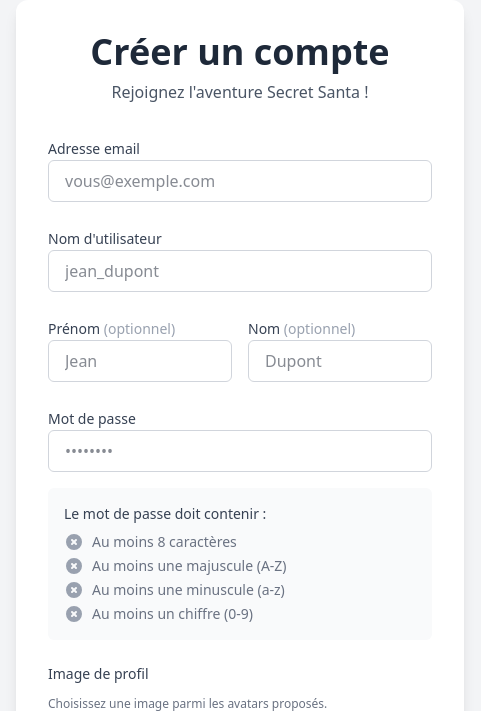
Scenario: Auth pages › submits signup and redirects to login
Type "new@example.com" into the field labelled "Adresse email" at (240, 181), box left=48, top=160, right=432, bottom=202
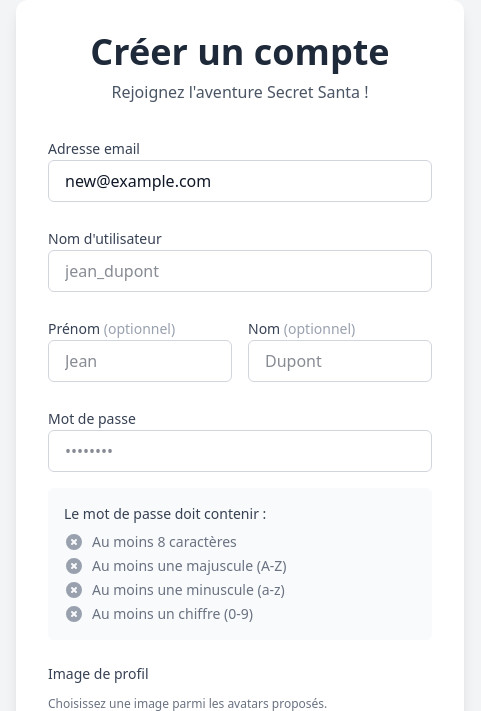
Type "new_user" into the field labelled "Nom d'utilisateur" at (240, 271), box left=48, top=250, right=432, bottom=292
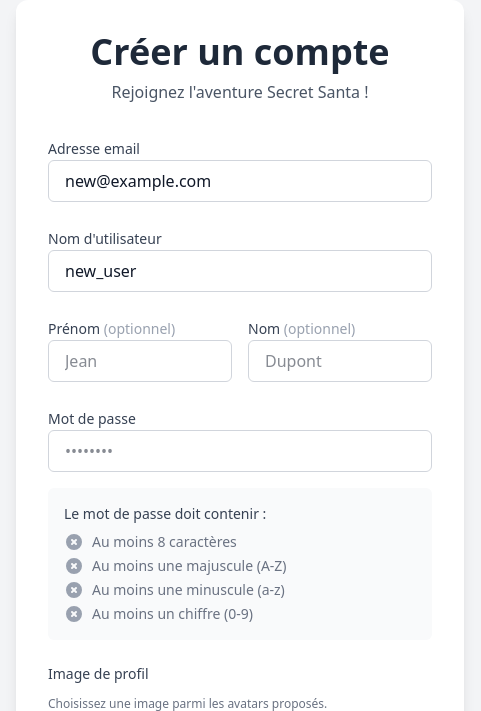
Type "Password123" into the password field labelled "Mot de passe" at (240, 451), box left=48, top=430, right=432, bottom=472
(page scrolled)
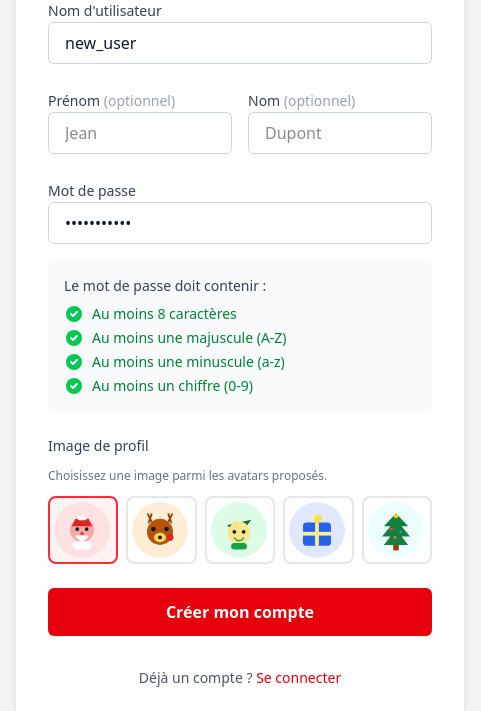
Click the button "Créer mon compte" at (240, 612), box left=48, top=588, right=432, bottom=636
(page scrolled)
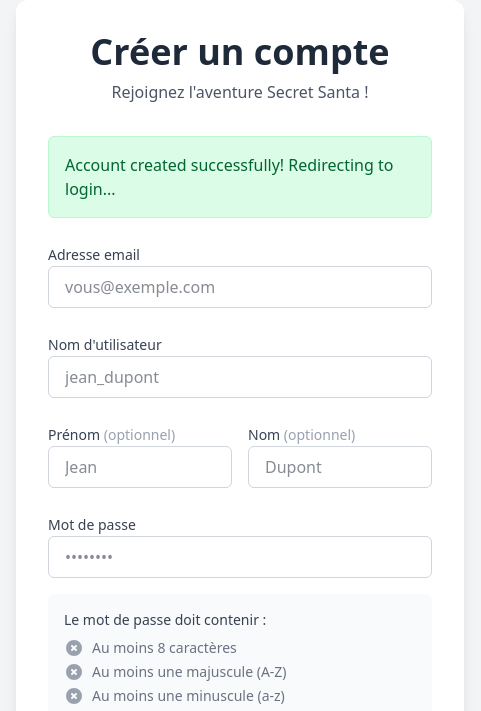
Check: the text "Account created successfully! Redirecting to login..." is shown, box left=48, top=136, right=432, bottom=218
